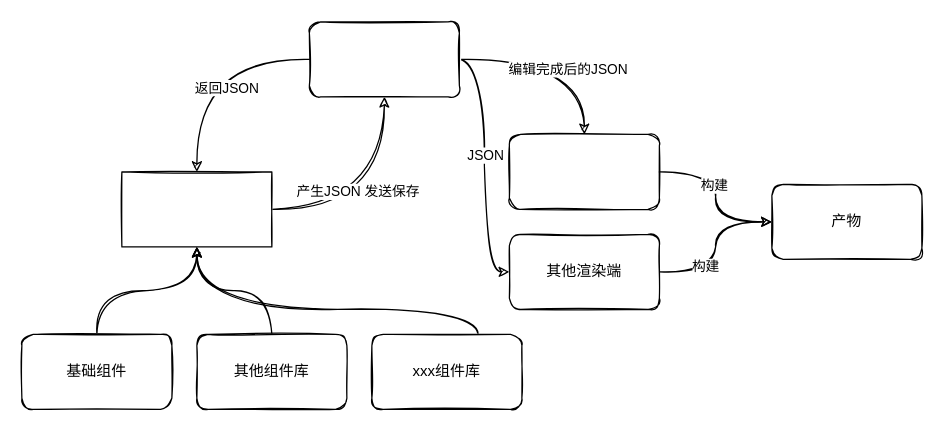
Image size: 944x431. Some labels were removed from this diagram. Each missing label, with the centre of its shape:
"h5渲染端" goes at (x=583, y=171).
"编辑器-服务端" goes at (x=383, y=59).
"编辑器-编辑端" goes at (x=196, y=209).
